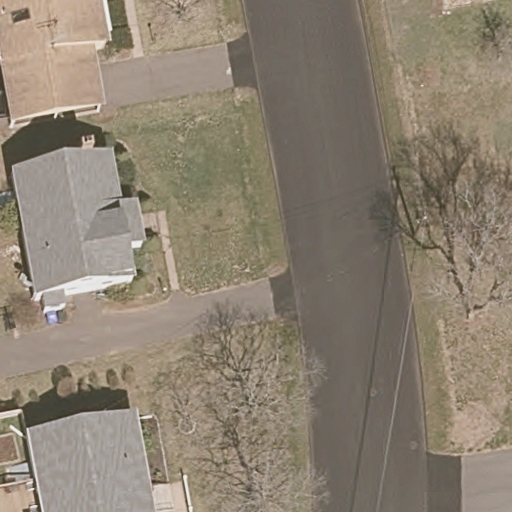DT: (410, 213, 429, 240)
